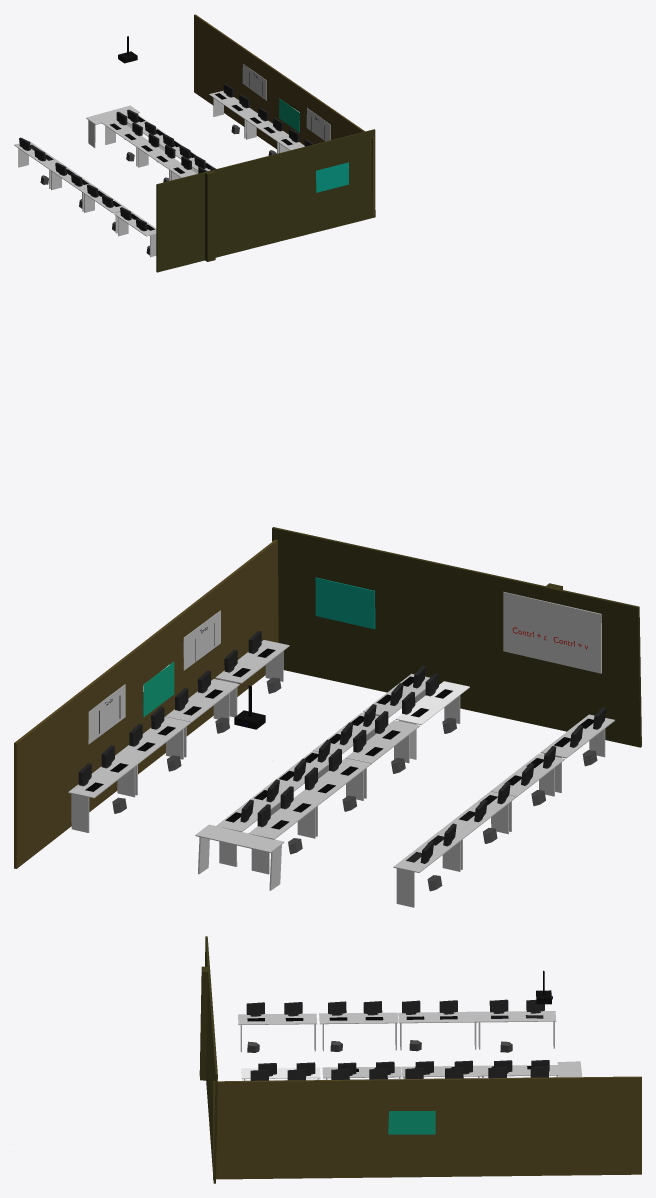
The picture shows the model from 3 angles, top to bottom: view 1: azimuth 30°, elevation 25°; view 2: azimuth 150°, elevation 25°; view 3: azimuth 270°, elevation 25°; orthographic projection. The views are drawn at different scales.
Visible parts, largest first — view 1: Cube.001, teste_Cube.002, Cube.000_Cube.000, Cube.002_Cube.001, Cube.002_Cube.000, Cube.002_Cube.002, Cube.083_Cube.017_Cube.083_Cube.018_mesa_7, Cube.083_Cube.018_Cube.083_Cube.019_mesa_8, Cube.083_Cube.009_Cube.083_Cube.010, Cube.083_Cube.004_mesa_13, Cube.083_Cube.020_Cube.083_Cube.021_mesa_0; view 2: Cube.001, teste_Cube.002, Cube_Cube.003, Cube.000_Cube.000, Cube.002_Cube.000, Cube.002_Cube.001, Cube.083_Cube.020_Cube.083_Cube.021_mesa_0, Cube.083_Cube.019_Cube.083_Cube.020_mesa_5, Cube.083_Cube.016_Cube.083_Cube.017_mesa_6, Cube.083_Cube.018_Cube.083_Cube.019_mesa_8, Cube.083_Cube.017_Cube.083_Cube.018_mesa_7, Cube.083_Cube.004_mesa_13 (+7 smaller); view 3: teste_Cube.002, Cube.001, Cube.002_Cube.002, 2012_Cube.083_Cube.005_Cube.083_Cube.006_mesa_2, 2013.001_Cube.083_Cube.002_Cube.083_Cube.005_mesa_3, 2006_Cube.083_Cube.006_Cube.083_Cube.007_mesa_1, 2019_Cube.083_Cube.007_Cube.083_Cube.008_mesa_4, Cube.083_Cube.018_Cube.083_Cube.019_mesa_8, Cube.083_Cube.016_Cube.083_Cube.017_mesa_6, Cube.083_Cube.019_Cube.083_Cube.020_mesa_5, Cube.083_Cube.017_Cube.083_Cube.018_mesa_7, Cube.083_Cube.020_Cube.083_Cube.021_mesa_0.
Part boxes in pixels (x1,y1,x2,y2): Cube.001: [156, 129, 375, 272]; teste_Cube.002: [194, 14, 374, 215]; Cube.000_Cube.000: [316, 162, 348, 192]; Cube.002_Cube.001: [242, 64, 266, 100]; Cube.002_Cube.000: [306, 108, 330, 141]; Cube.002_Cube.002: [279, 98, 299, 132]; Cube.083_Cube.017_Cube.083_Cube.018_mesa_7: [134, 141, 181, 167]; Cube.083_Cube.018_Cube.083_Cube.019_mesa_8: [101, 118, 148, 144]; Cube.083_Cube.009_Cube.083_Cube.010: [242, 113, 288, 139]; Cube.083_Cube.004_mesa_13: [209, 90, 256, 116]; Cube.083_Cube.020_Cube.083_Cube.021_mesa_0: [86, 105, 139, 124]; Cube.001: [272, 527, 641, 747]; teste_Cube.002: [14, 539, 278, 868]; Cube_Cube.003: [503, 592, 601, 673]; Cube.000_Cube.000: [315, 577, 375, 629]; Cube.002_Cube.000: [183, 610, 220, 670]; Cube.002_Cube.001: [88, 684, 125, 744]; Cube.083_Cube.020_Cube.083_Cube.021_mesa_0: [195, 824, 284, 852]; Cube.083_Cube.019_Cube.083_Cube.020_mesa_5: [395, 681, 469, 725]; Cube.083_Cube.016_Cube.083_Cube.017_mesa_6: [346, 720, 419, 763]; Cube.083_Cube.018_Cube.083_Cube.019_mesa_8: [248, 796, 322, 839]; Cube.083_Cube.017_Cube.083_Cube.018_mesa_7: [297, 758, 371, 801]; Cube.083_Cube.004_mesa_13: [68, 754, 142, 798]; teste_Cube.002: [213, 1076, 641, 1179]; Cube.001: [199, 936, 217, 1183]; Cube.002_Cube.002: [388, 1111, 435, 1134]; 2012_Cube.083_Cube.005_Cube.083_Cube.006_mesa_2: [398, 1011, 477, 1023]; 2013.001_Cube.083_Cube.002_Cube.083_Cube.005_mesa_3: [319, 1012, 398, 1024]; 2006_Cube.083_Cube.006_Cube.083_Cube.007_mesa_1: [477, 1011, 556, 1022]; 2019_Cube.083_Cube.007_Cube.083_Cube.008_mesa_4: [238, 1013, 316, 1025]; Cube.083_Cube.018_Cube.083_Cube.019_mesa_8: [480, 1065, 559, 1076]; Cube.083_Cube.016_Cube.083_Cube.017_mesa_6: [322, 1066, 401, 1078]; Cube.083_Cube.019_Cube.083_Cube.020_mesa_5: [241, 1067, 320, 1079]; Cube.083_Cube.017_Cube.083_Cube.018_mesa_7: [401, 1065, 480, 1077]; Cube.083_Cube.020_Cube.083_Cube.021_mesa_0: [557, 1061, 582, 1077].
Bounding box in the file's own units: 68.12 × 19.31 × 71.69.
